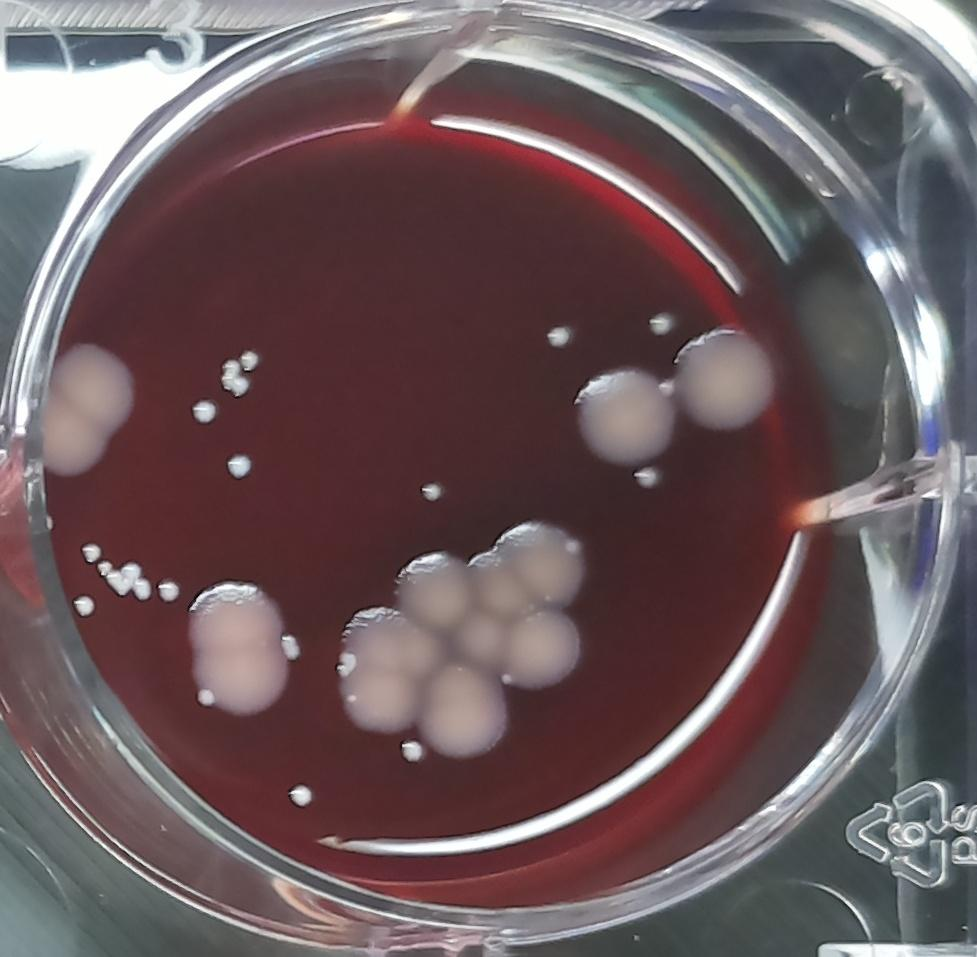staphylo-: (96, 556, 154, 604), (219, 353, 249, 402), (541, 319, 574, 353), (630, 461, 663, 493), (225, 450, 256, 484), (282, 780, 315, 810), (396, 736, 427, 766), (414, 478, 446, 506), (648, 311, 677, 341), (190, 399, 220, 427), (278, 631, 302, 663), (71, 592, 95, 620), (157, 579, 182, 605), (237, 344, 260, 370), (336, 650, 356, 679), (196, 685, 219, 710), (79, 541, 101, 566), (655, 376, 677, 400), (499, 670, 517, 691)
